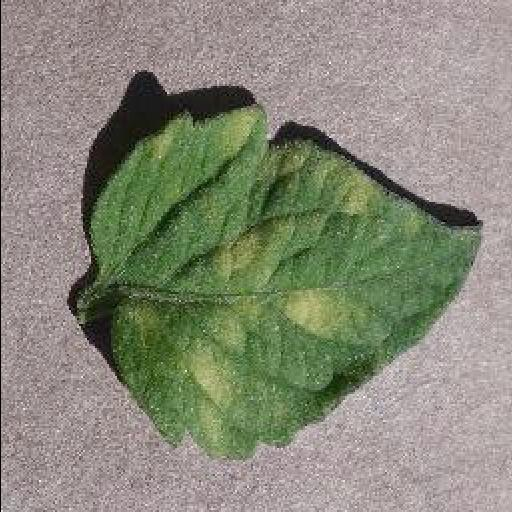disease_tomato: (85, 106, 487, 462)
